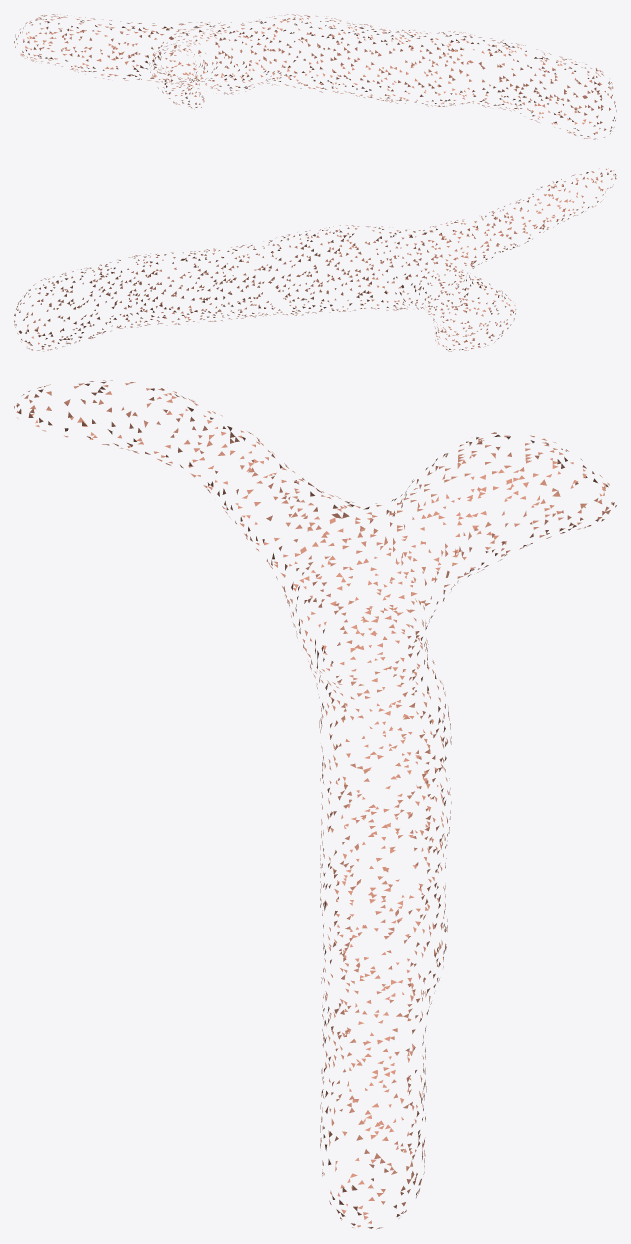
Rendered from morph_003.glb.
3 views of the same model, one above another, from view 1: azimuth 30°, elevation 25°; view 2: azimuth 150°, elevation 25°; view 3: azimuth 270°, elevation 25° (orthographic). The views are drawn at different scales.
Size of the model in its own units: 122 by 52.29 by 66.68.
